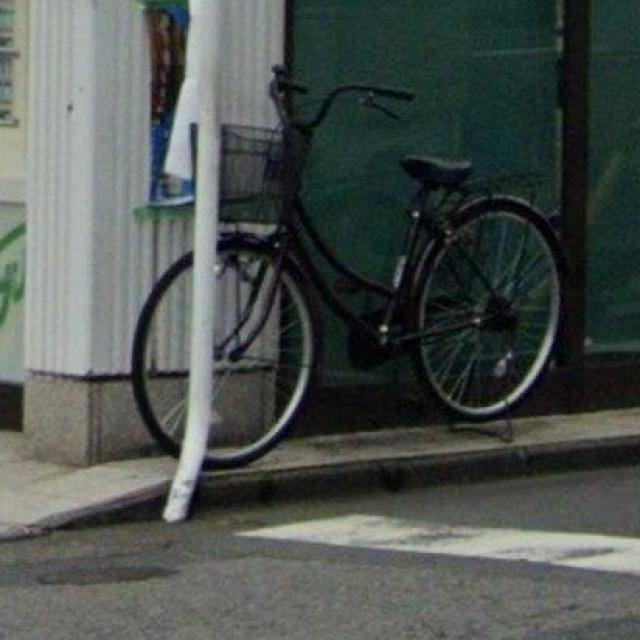bicycle: (207, 69, 570, 470), (133, 257, 191, 454)
